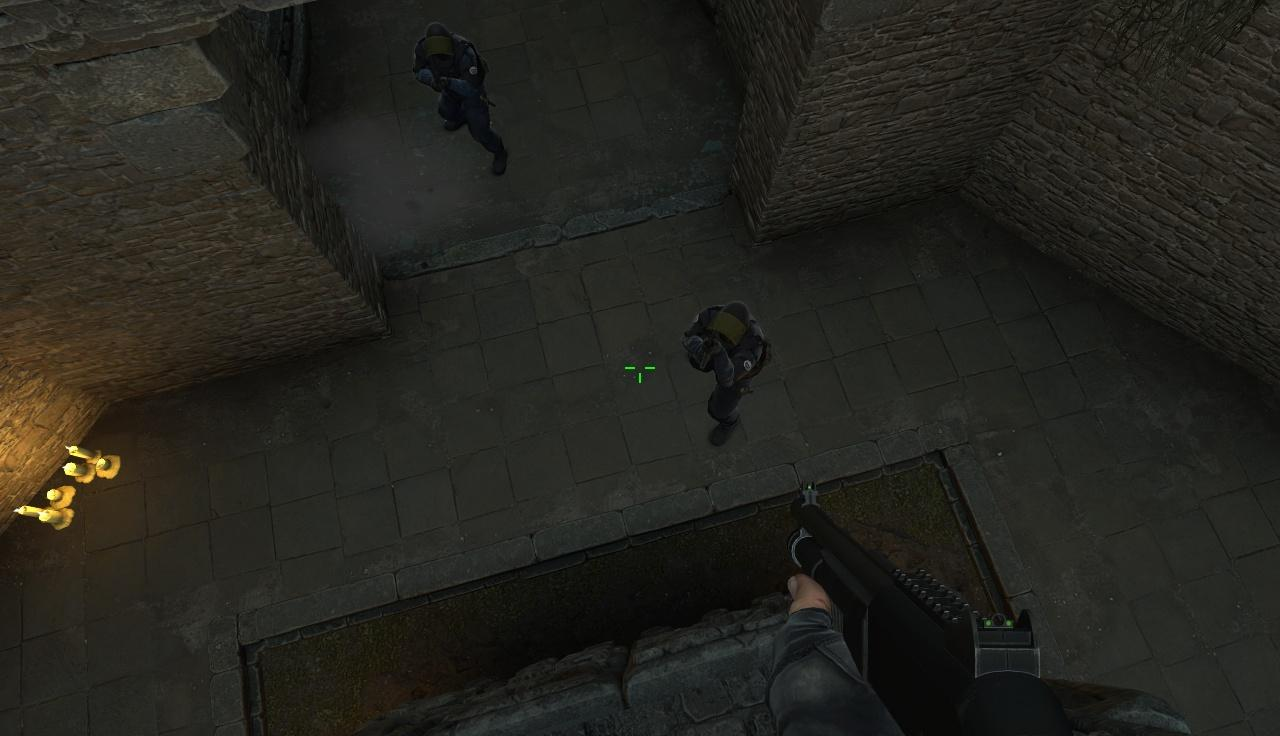ct: (414, 22, 498, 170), (690, 302, 761, 450)
cthead: (708, 305, 748, 343), (421, 25, 453, 58), (66, 447, 96, 478)
rifle: (784, 487, 986, 736)
